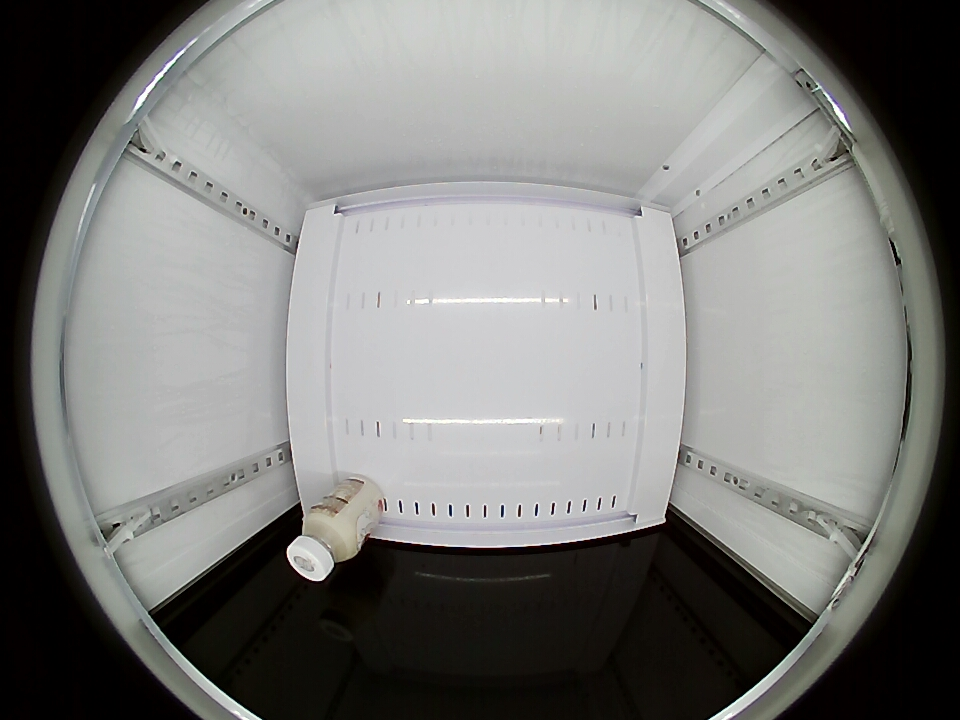weiweidounai: (286, 504, 363, 582)
